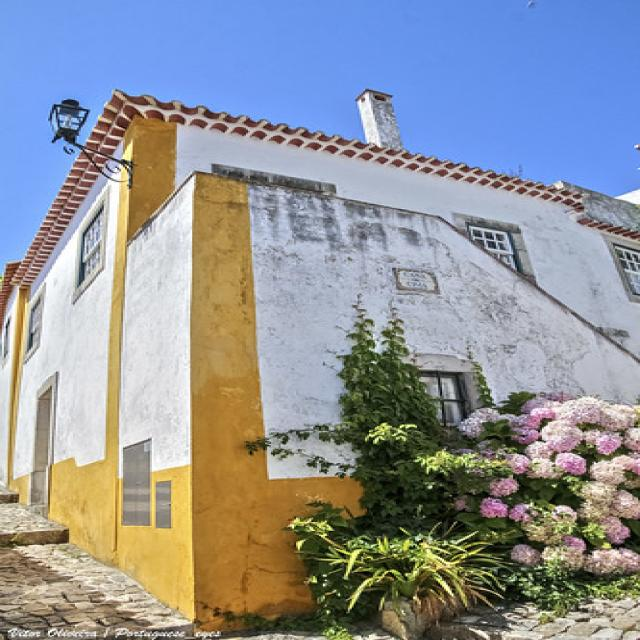building: (2, 83, 640, 629)
